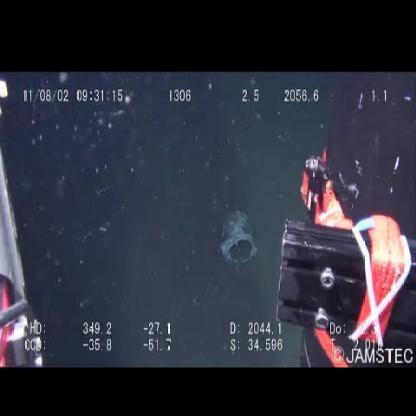Rác: (220, 210, 258, 268)
